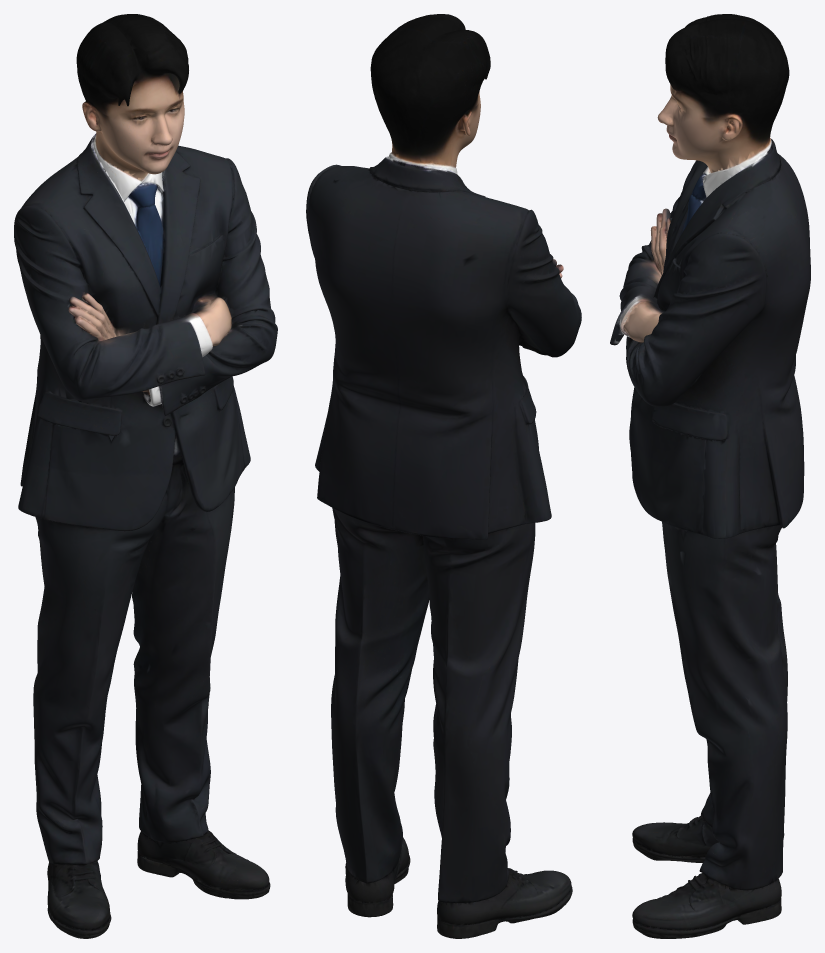
Rendered from avatar.glb.
3 views of the same model, side by side, from view 1: azimuth 30°, elevation 25°; view 2: azimuth 150°, elevation 25°; view 3: azimuth 270°, elevation 25° (orthographic). The views are drawn at different scales.
Visible parts, largest first — view 1: node_0; view 2: node_0; view 3: node_0.
Part boxes in pixels (bbox=[...]): node_0: bbox=[14, 14, 277, 938]; node_0: bbox=[306, 14, 581, 938]; node_0: bbox=[610, 14, 810, 938].
Bounding box in the file's own units: 0.3231 × 1.16 × 0.2431.
Materials: 1 (1 with a texture image).
